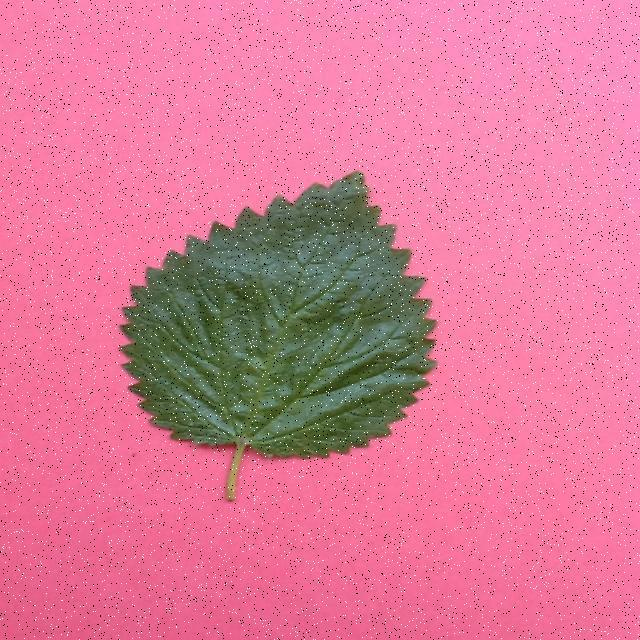foliage: (120, 164, 438, 503)
